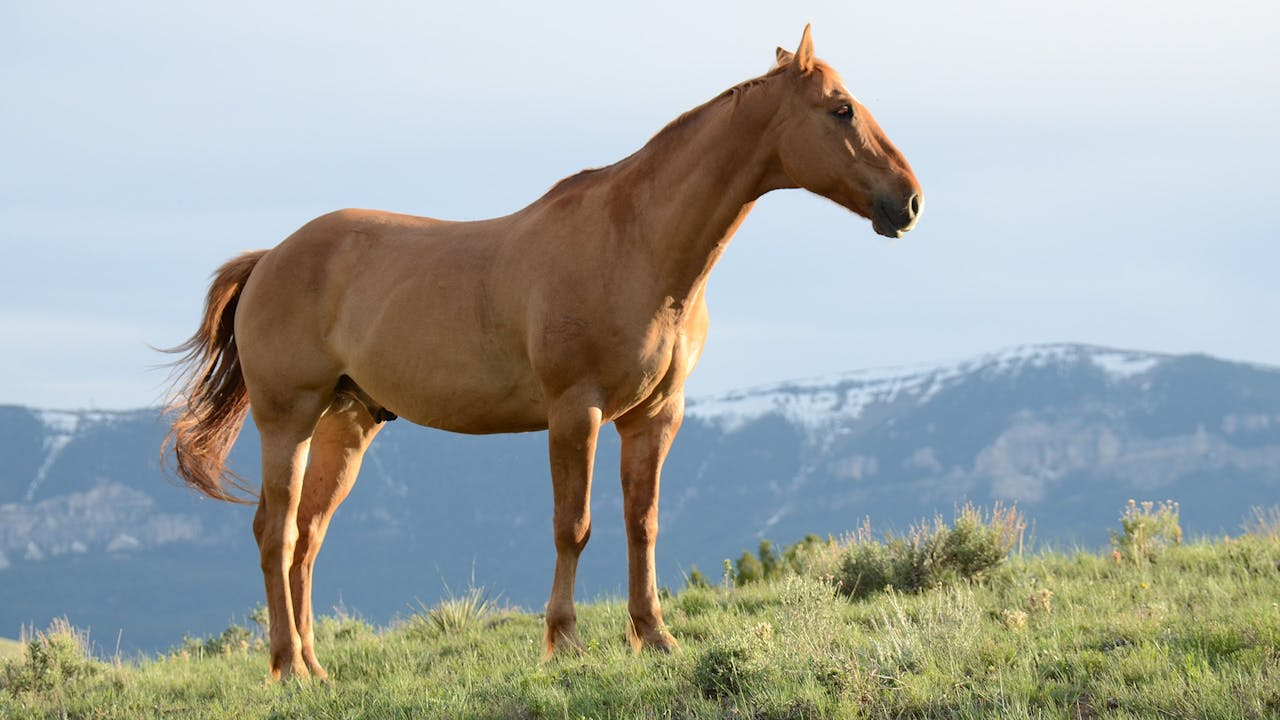horse: (125, 16, 930, 683)
